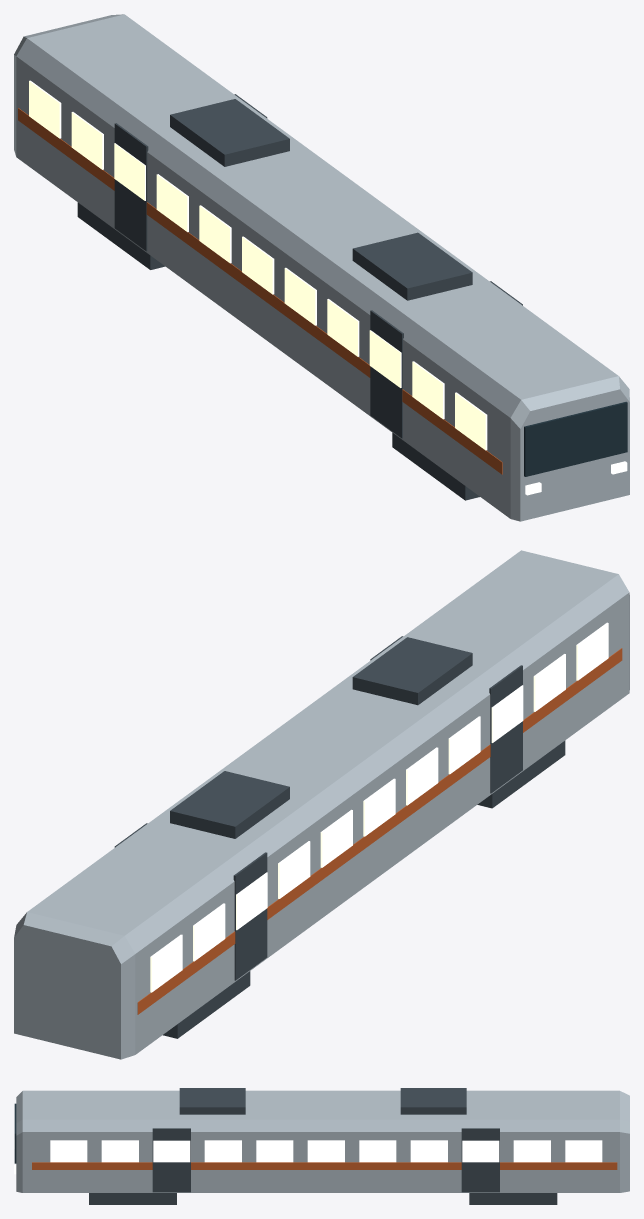
File: subway-cab.glb
The picture shows the model from 3 angles, top to bottom: view 1: azimuth 30°, elevation 25°; view 2: azimuth 150°, elevation 25°; view 3: azimuth 270°, elevation 25°; orthographic projection. The views are drawn at different scales.
Bounding box in the file's own units: 2.72 × 3.24 × 19.57.
